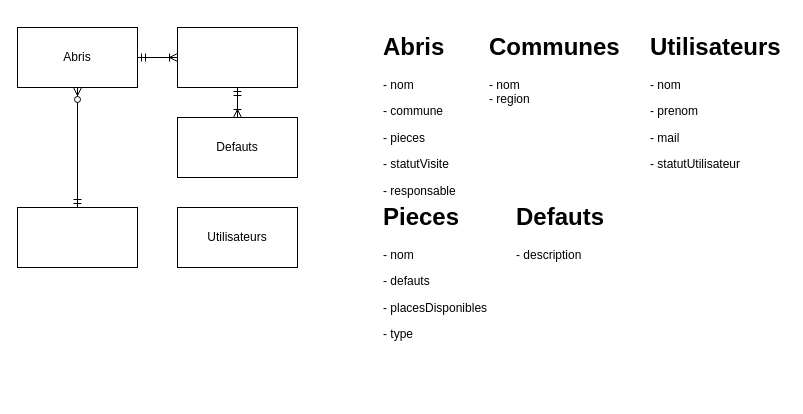
Some shapes in this 803 by 414 pixel diagram are drawn without their labels. The shapes that lost their labels are listed below. From the top down, each one's centre as x and y in pixels, then its label:
At point (237, 57): "Pieces".
At point (77, 237): "Communes".
